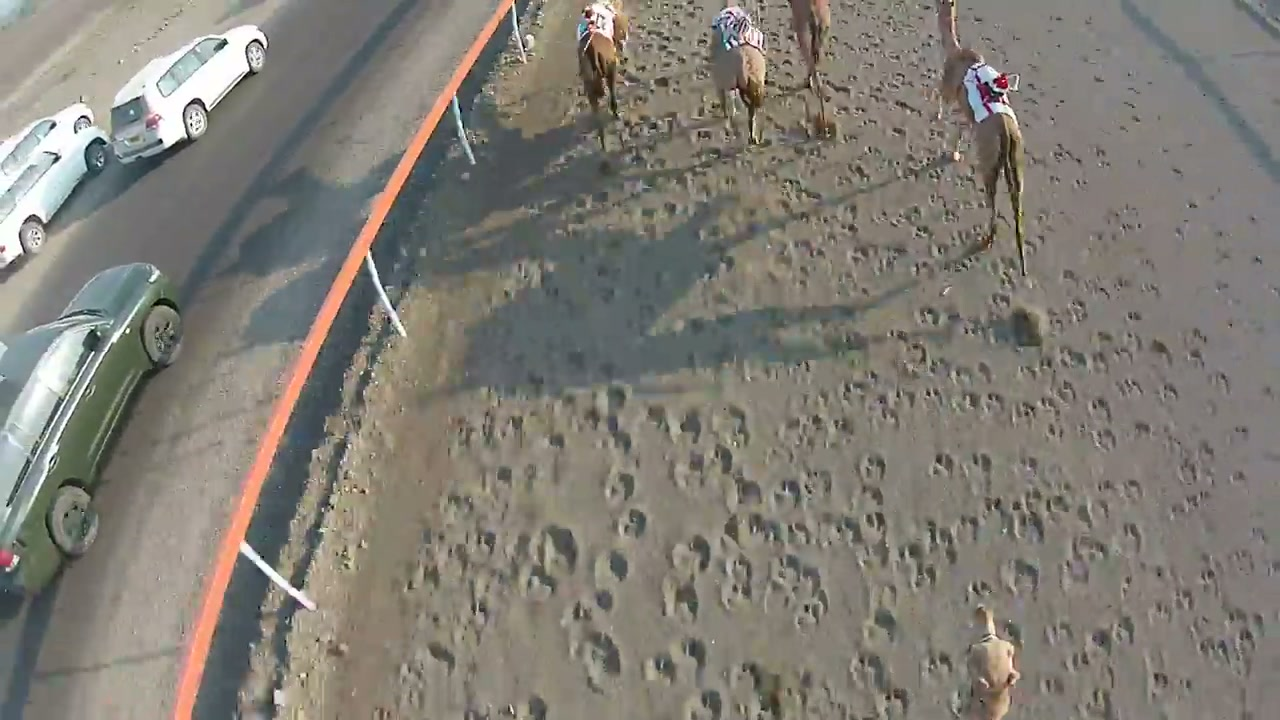animal_footprint: (308, 0, 1279, 719)
